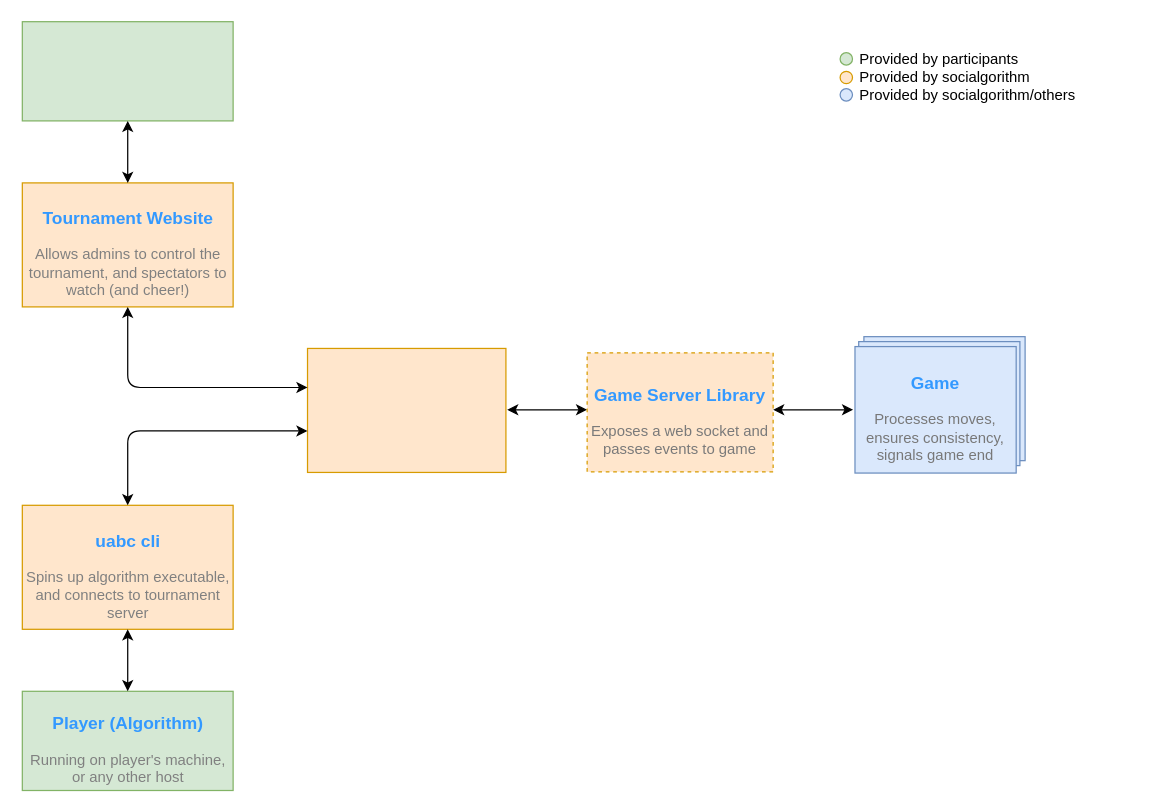
The diagram is 1158 pixels wide and 812 high, and some of its shapes have lost their labels. The shapes that lost their labels are listed below. From the top down, each one's centre as x and y in pixels, then its label:
At point (127, 70): "Game Visualiser Draws the game board or world".
At point (406, 409): "Tournament Server Exposes a web socket for players and the web viewer".
